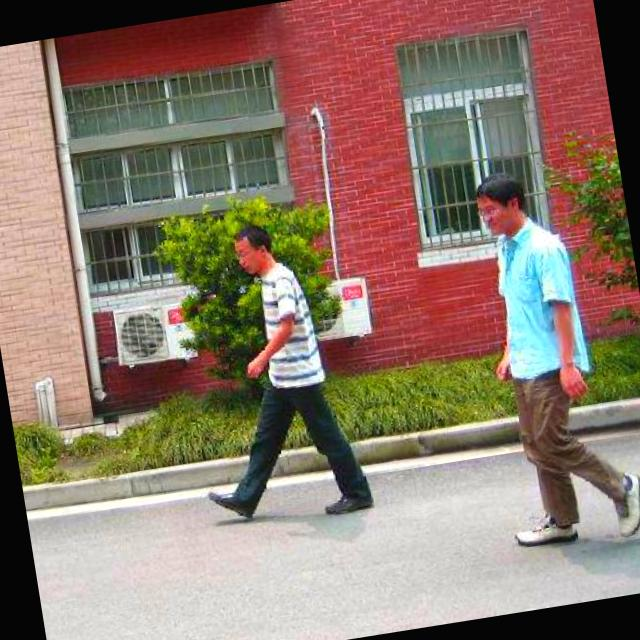Person: (455, 161, 640, 566), (160, 212, 379, 540)
